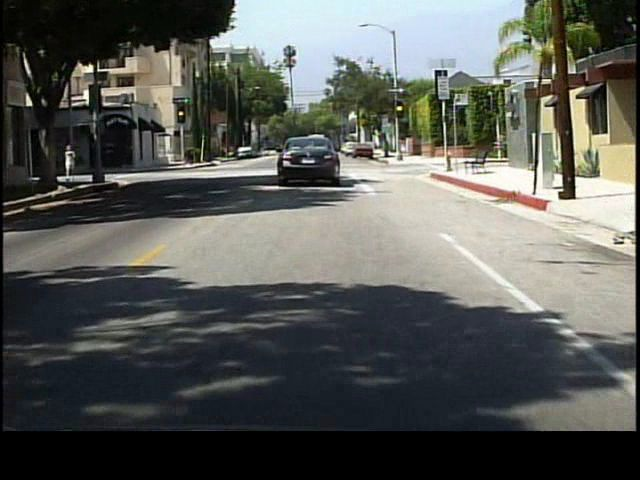person: (64, 144, 81, 188)
